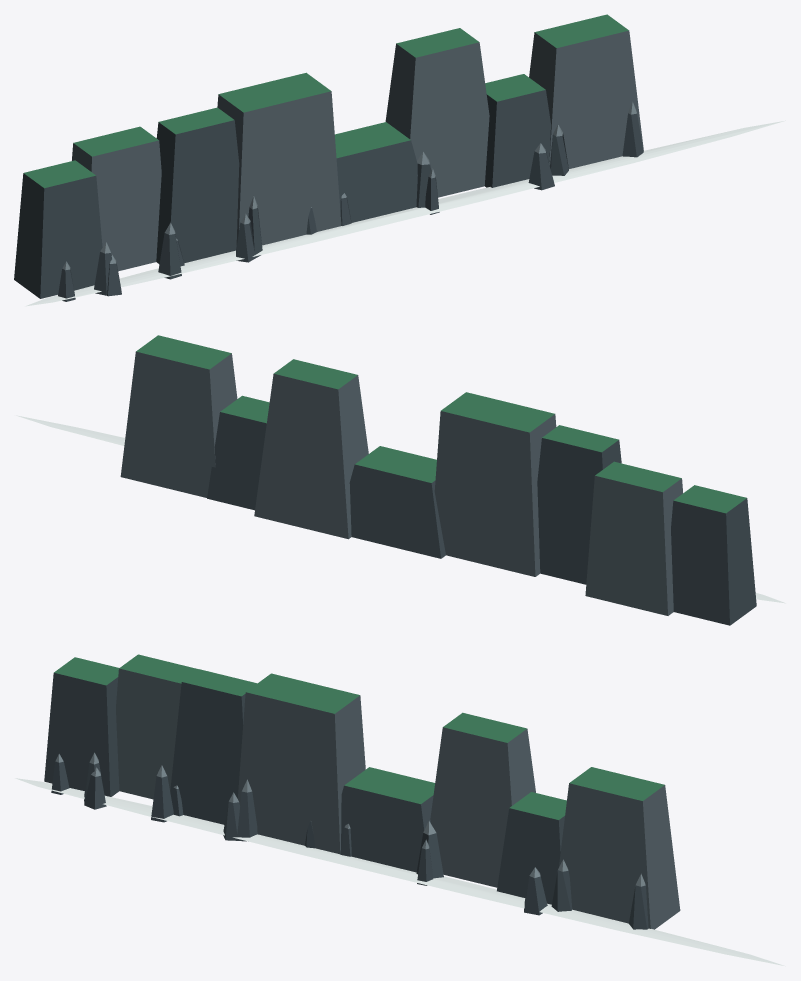
File: W2_Far_SeaCliffs.fbx
The picture shows the model from 3 angles, top to bottom: view 1: azimuth 30°, elevation 25°; view 2: azimuth 150°, elevation 25°; view 3: azimuth 330°, elevation 25°; orthographic projection.
Parts seen in each view (by area): view 1: W2_Far_SeaCliffs; view 2: W2_Far_SeaCliffs; view 3: W2_Far_SeaCliffs.
Boxes of the visible parts, left/top/right/bottom form: W2_Far_SeaCliffs: left=14, top=14, right=785, bottom=306; W2_Far_SeaCliffs: left=16, top=335, right=785, bottom=625; W2_Far_SeaCliffs: left=15, top=654, right=785, bottom=966.
Size of the model in its own units: 507 by 89.47 by 56.27.
